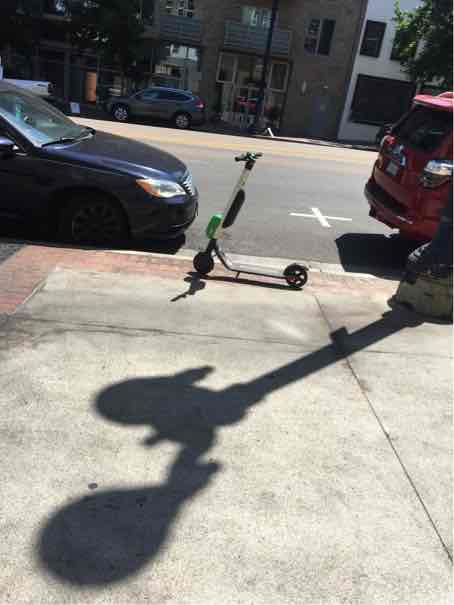scooter: (192, 143, 318, 304)
